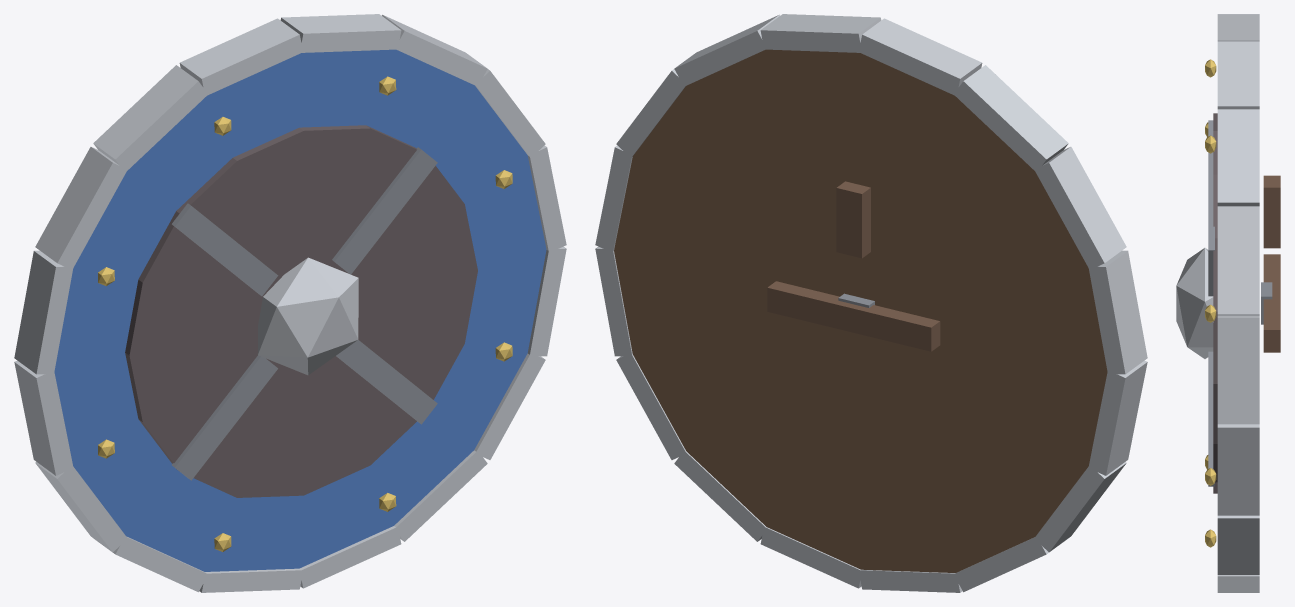
The model's file is Weapon_Shield_Round_Blue.glb.
3 renders of one model, left to right at view 1: azimuth 30°, elevation 25°; view 2: azimuth 150°, elevation 25°; view 3: azimuth 270°, elevation 25°, orthographic. The views are drawn at different scales.
Parts seen in each view (by area): view 1: Shield_Round_Blue; view 2: Shield_Round_Blue; view 3: Shield_Round_Blue.
Boxes of the visible parts, x1,y1,x2,y2 form: Shield_Round_Blue: (14,14,566,592); Shield_Round_Blue: (595,14,1147,592); Shield_Round_Blue: (1176,14,1280,592).
Size of the model in its own units: 1.03 by 1.03 by 0.186.
